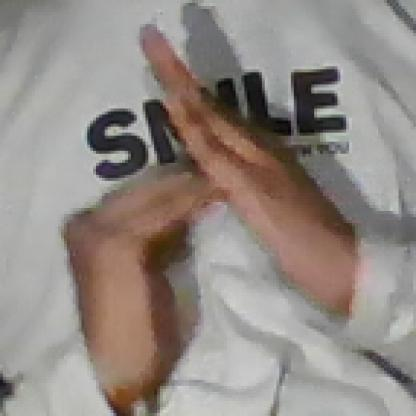Z: (69, 22, 334, 376)
